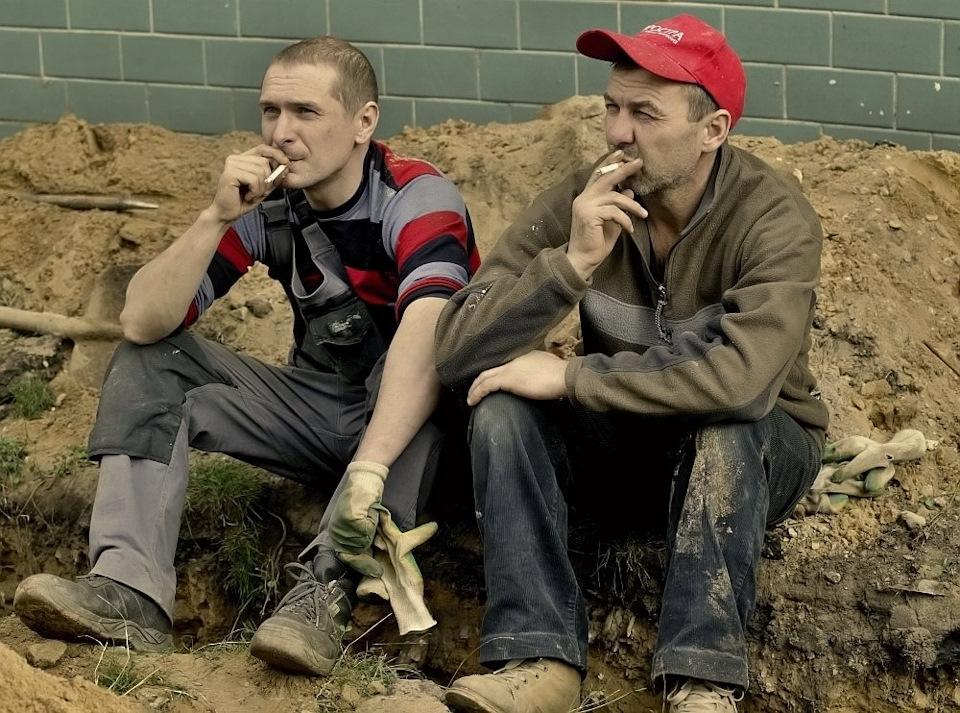cigarette: (263, 164, 288, 184), (596, 161, 625, 176)
